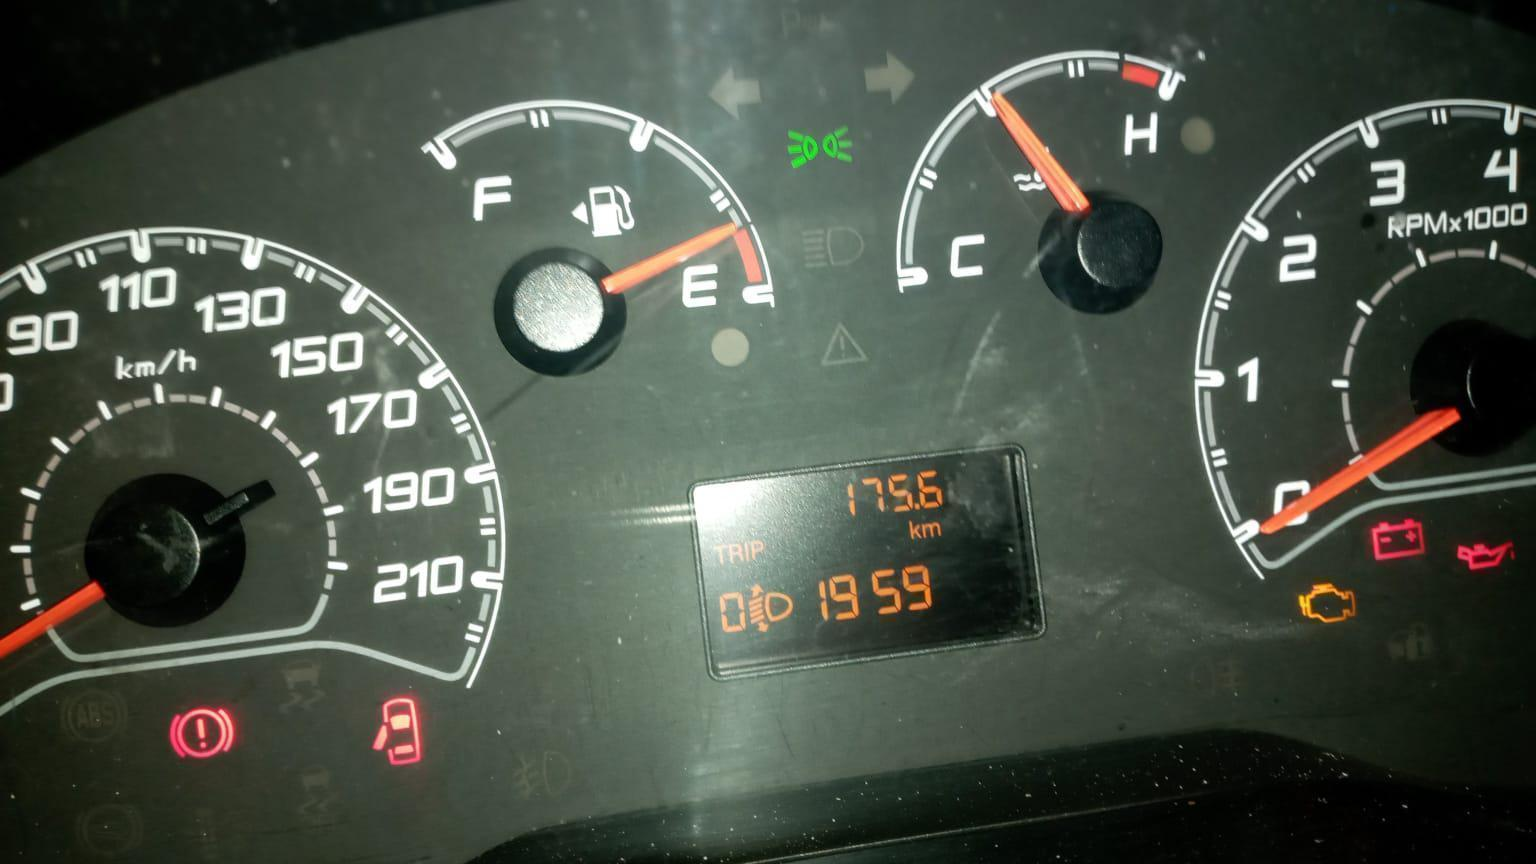,: (913, 502, 922, 510)
0: (718, 591, 747, 634)
1: (817, 580, 831, 622), (845, 483, 857, 517)
5: (870, 567, 902, 614), (886, 472, 913, 513)
6: (917, 469, 945, 508)
7: (861, 476, 886, 513)
9: (901, 563, 934, 611), (829, 572, 860, 622)
X: (711, 543, 728, 565), (921, 521, 943, 538), (729, 543, 744, 564), (750, 540, 763, 560), (909, 520, 922, 539), (743, 541, 750, 562)
odometer: (681, 439, 1053, 687)
